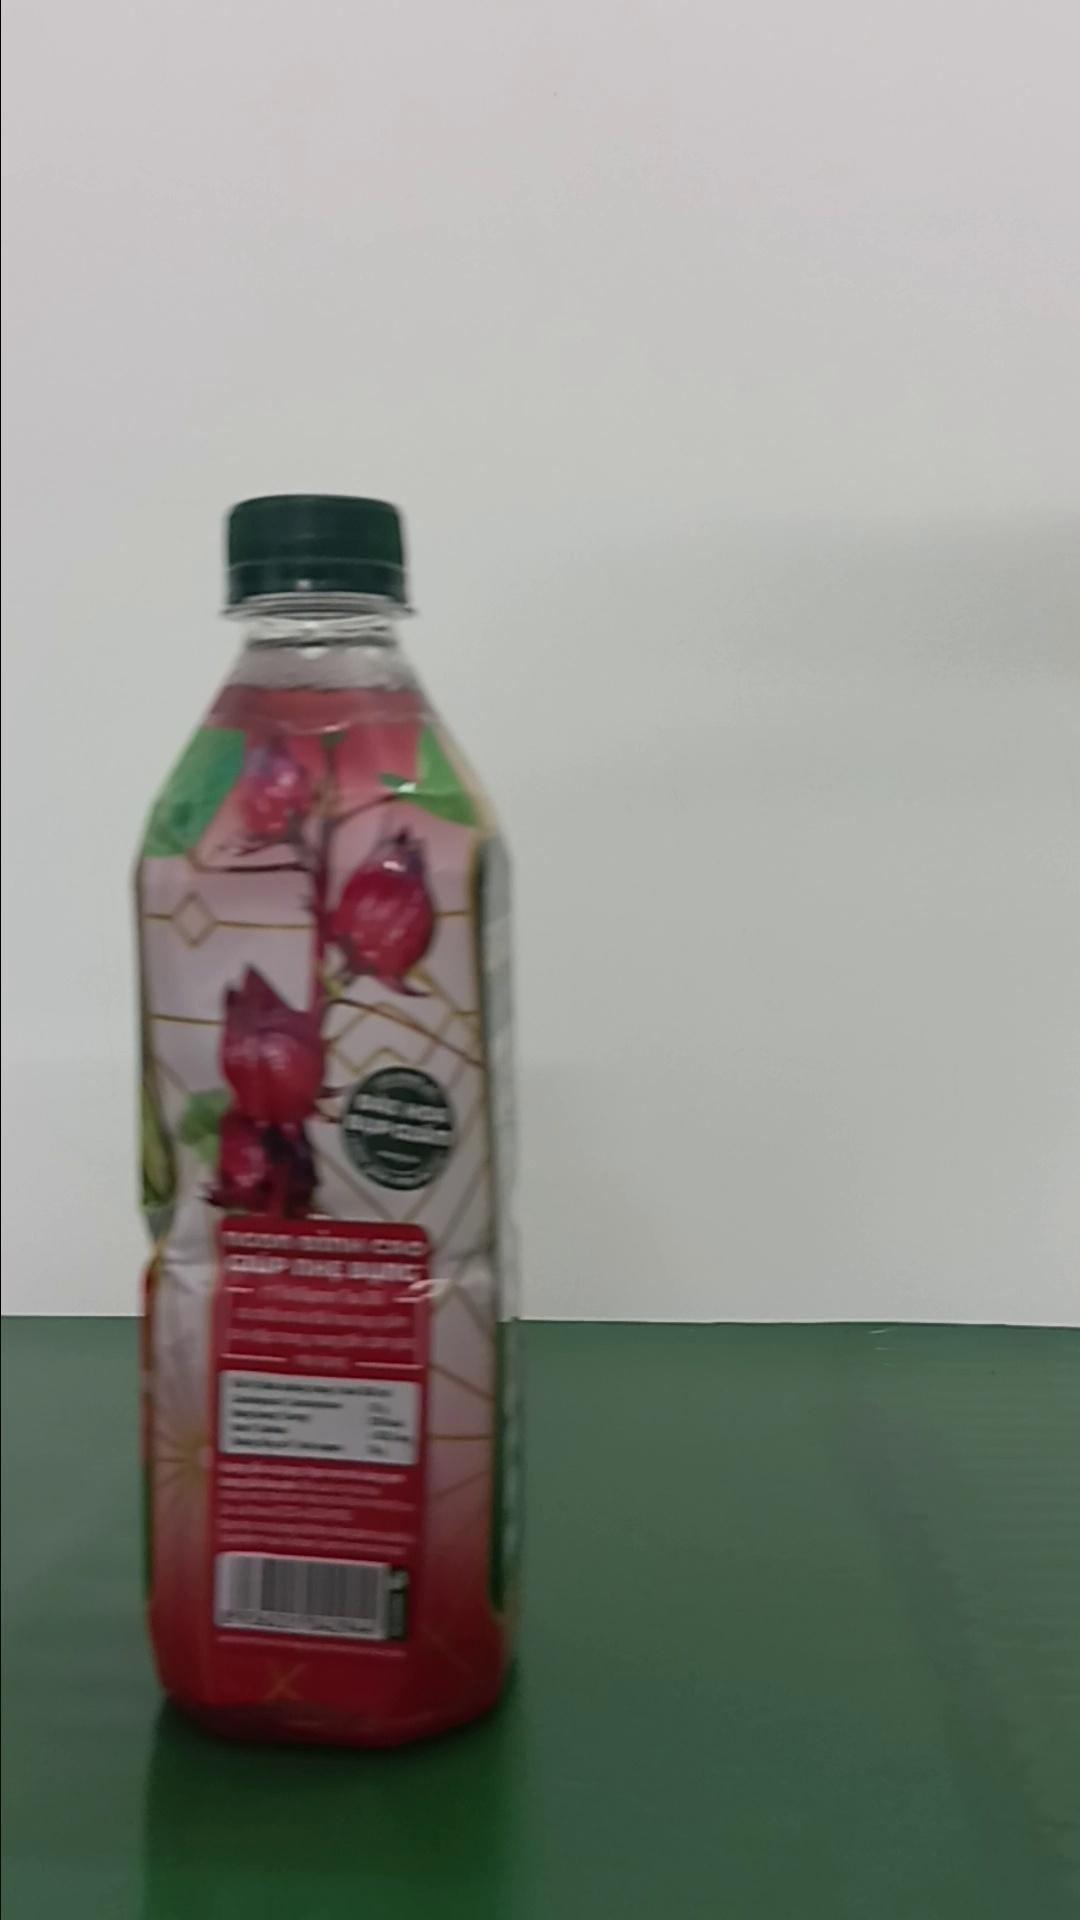loi meo sp: (131, 491, 520, 1749)
